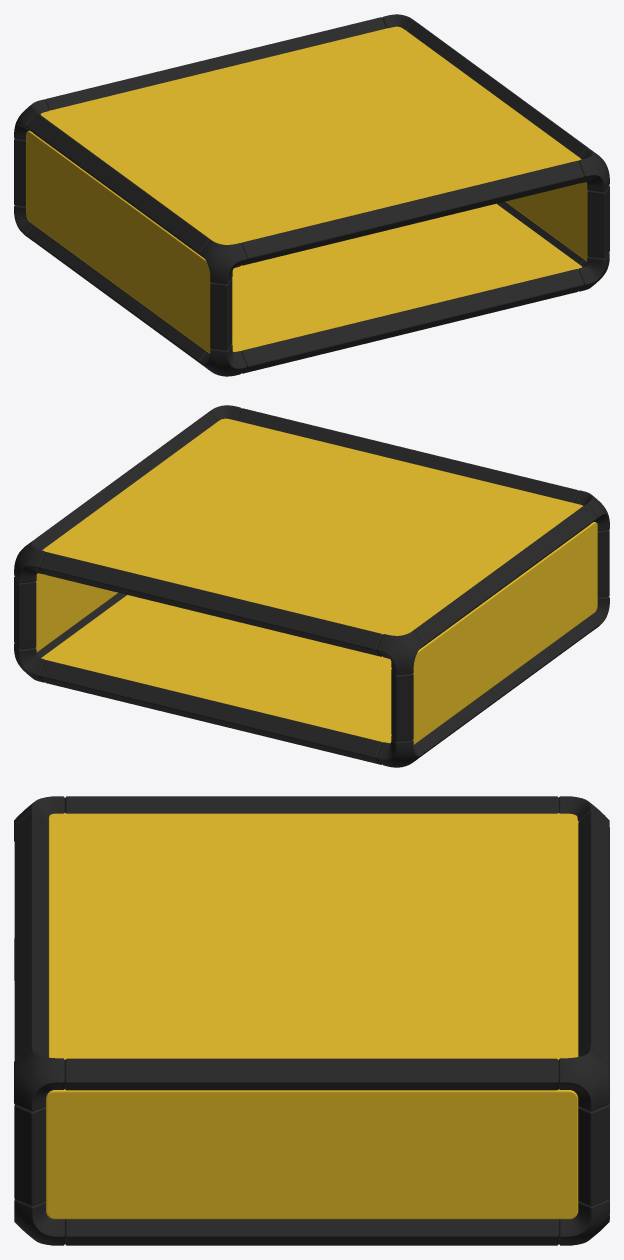
3 views of the same model, one above another, from view 1: azimuth 30°, elevation 25°; view 2: azimuth 150°, elevation 25°; view 3: azimuth 270°, elevation 25° (orthographic). The views are drawn at different scales.
Parts seen in each view (by area): view 1: 420x374x79; view 2: 420x374x79; view 3: 420x374x79.
Boxes of the visible parts, x1,y1,x2,y2 form: 420x374x79: (14, 14, 609, 376); 420x374x79: (14, 405, 609, 767); 420x374x79: (14, 796, 609, 1245).
Size of the model in its own units: 0.4977 by 0.1566 by 0.4513.
